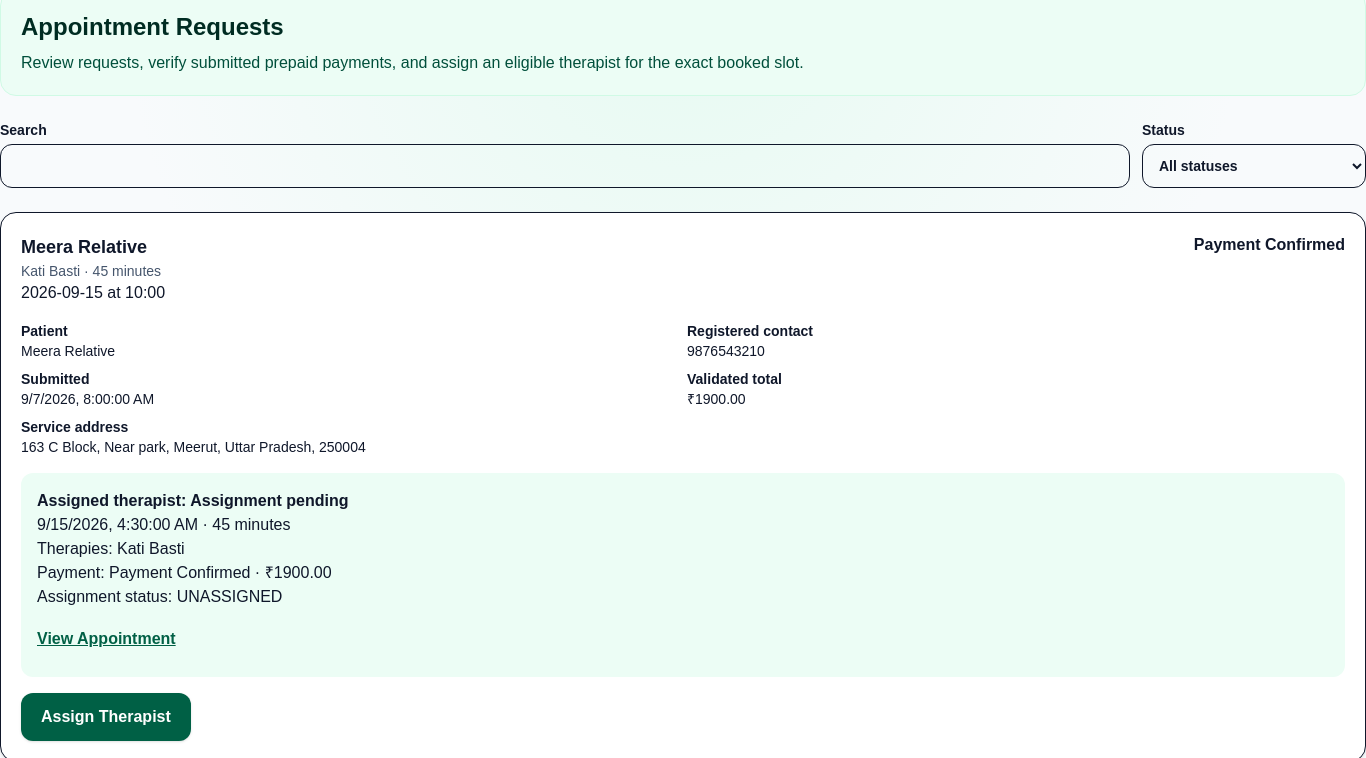
Test: assigns a paid prepaid booking from its exact-slot availability panel
The width and height of the screenshot is (1366, 758).
Click the button "Assign Therapist" at (106, 717), box [21, 693, 191, 741]
(page scrolled)
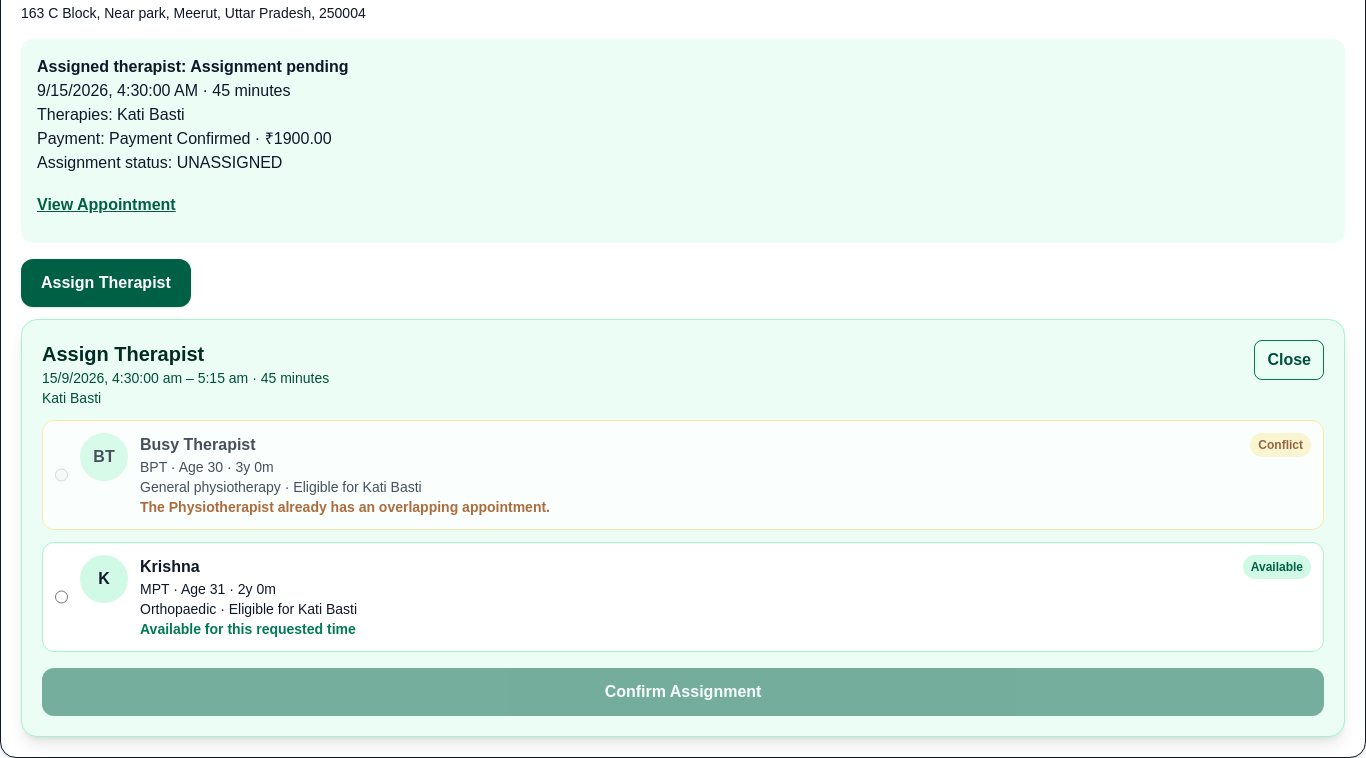
Now the dialog "Assign Therapist" shows "45 minutes", box [21, 319, 1345, 737]
Now the text "Conflict" is shown, box [1250, 433, 1311, 457]
Now the 1st radio button is disabled, box [55, 433, 68, 517]
Click the 2nd radio button at (62, 597), box [55, 555, 68, 639]
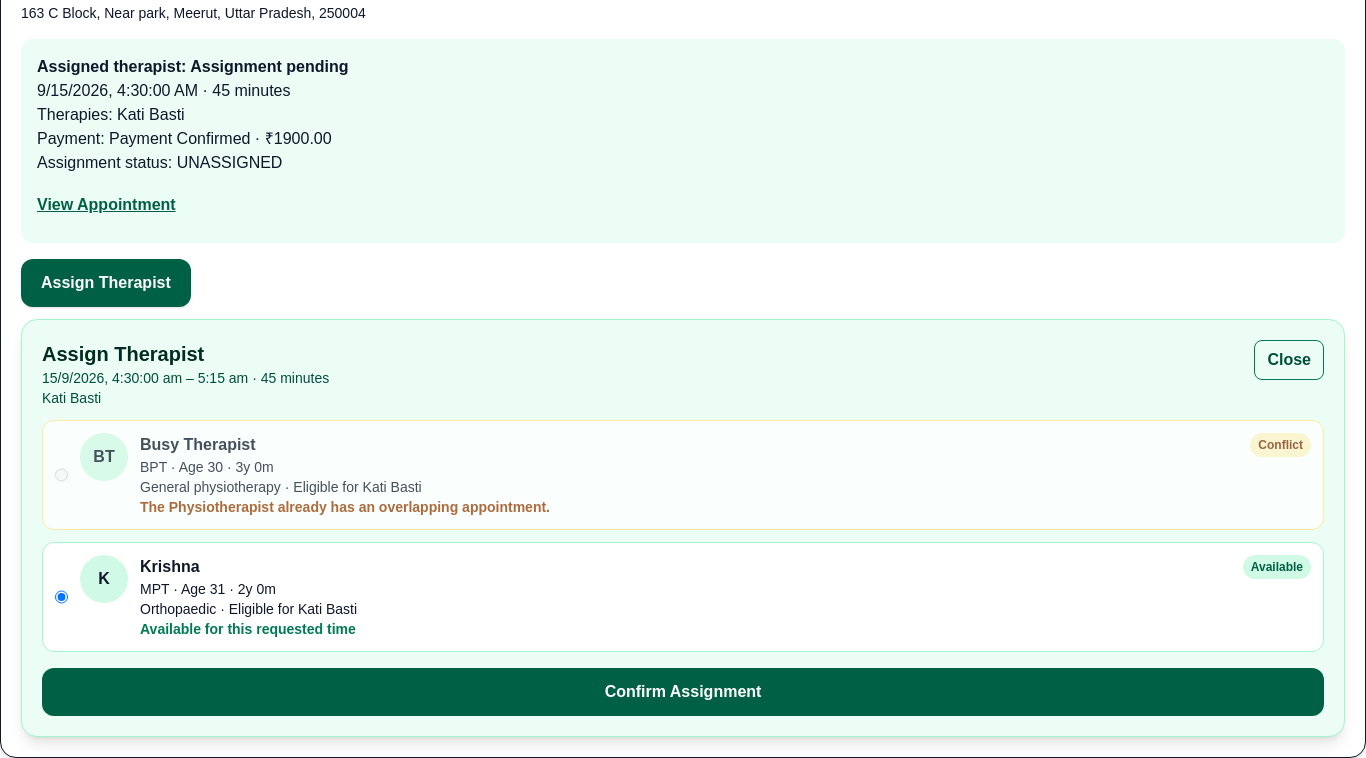
Click the button "Confirm Assignment" at (683, 692), box [42, 668, 1324, 716]
(page scrolled)
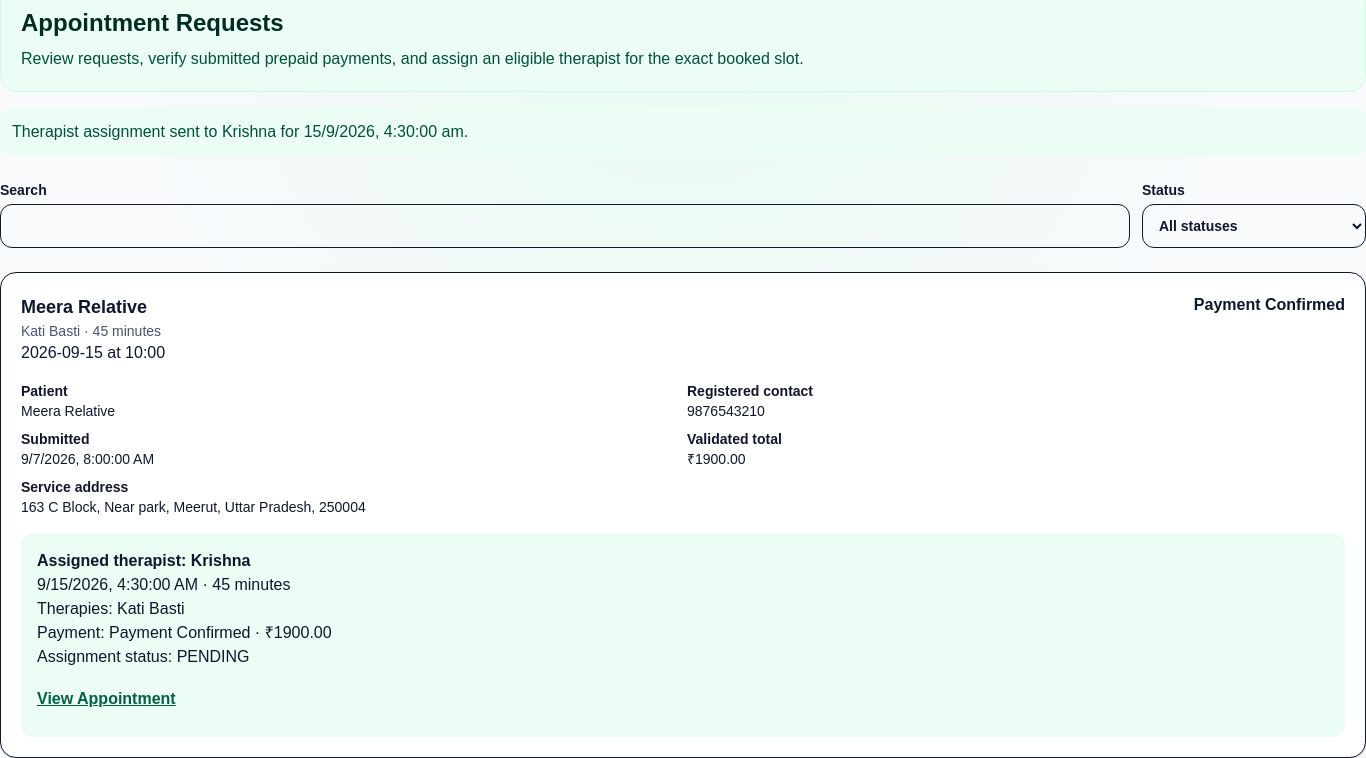
Now the text "Therapist assignment sent to Krishna for 15/9/2026, 4:30:00 am." is shown, box [0, 108, 1365, 156]
Now the text "Assigned therapist: Krishna" is shown, box [37, 552, 250, 569]
Now the text "Assignment status: PENDING" is shown, box [37, 648, 250, 665]
